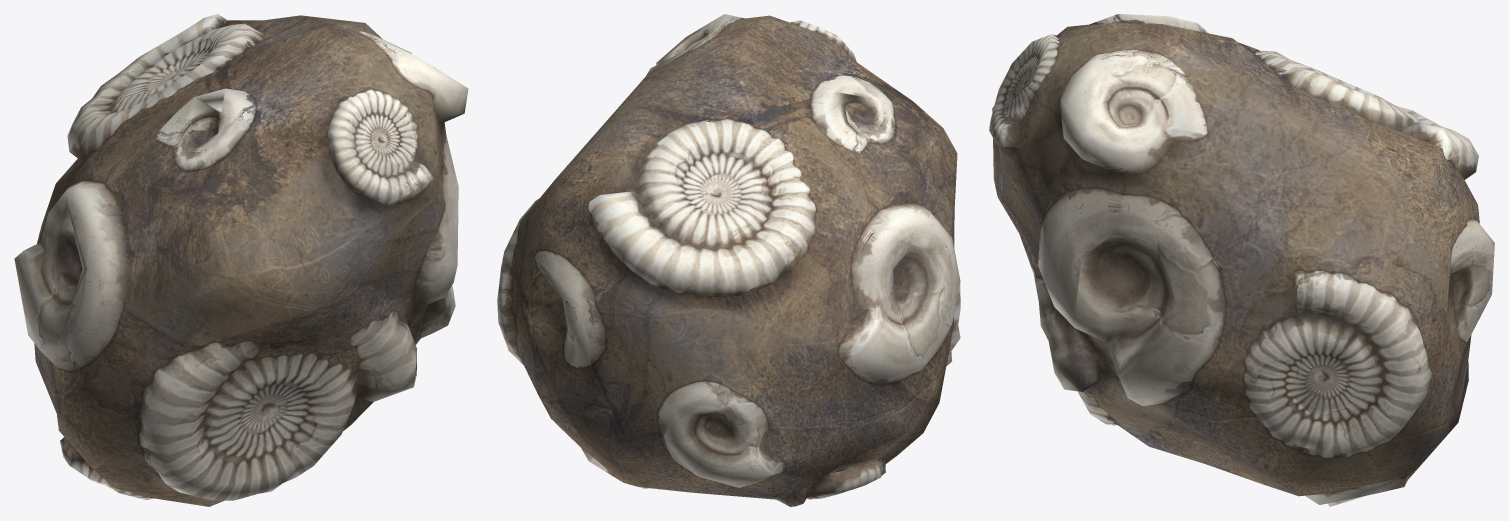
File: SM_FossilNode_3.fbx
3 views of the same model, side by side, from view 1: azimuth 30°, elevation 25°; view 2: azimuth 150°, elevation 25°; view 3: azimuth 270°, elevation 25° (orthographic). The views are drawn at different scales.
Parts seen in each view (by area): view 1: SM_FossilNode_3; view 2: SM_FossilNode_3; view 3: SM_FossilNode_3.
Part boxes in pixels (<box>): SM_FossilNode_3: <box>14,14,468,506</box>; SM_FossilNode_3: <box>497,14,960,506</box>; SM_FossilNode_3: <box>989,14,1494,506</box>.
Size of the model in its own units: 0.8084 by 0.8767 by 0.8352.
